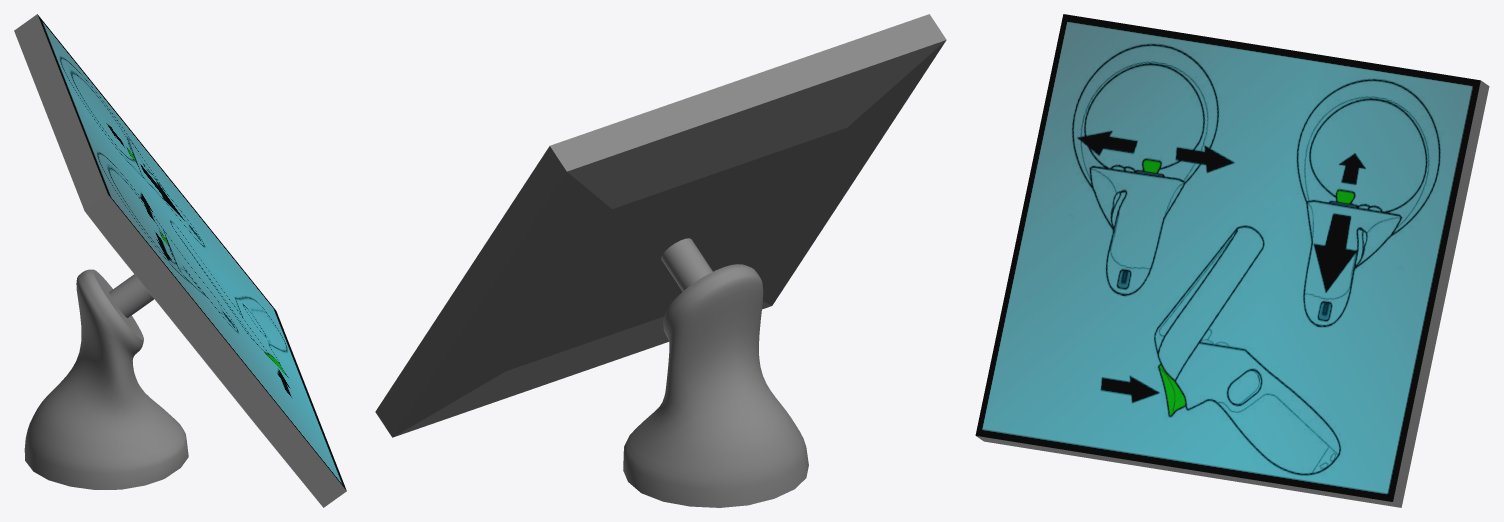
File: Liccon Cabin Icon 003.fbx
3 renders of one model, left to right at view 1: azimuth 30°, elevation 25°; view 2: azimuth 150°, elevation 25°; view 3: azimuth 270°, elevation 25°, orthographic. The views are drawn at different scales.
Visible parts, largest first — view 1: cabin monitor; view 2: cabin monitor; view 3: cabin monitor.
Boxes of the visible parts, <box> form: cabin monitor: <box>14,14,346,507</box>; cabin monitor: <box>375,14,946,507</box>; cabin monitor: <box>975,14,1489,507</box>.
Size of the model in its own units: 26.9 by 33.43 by 26.12.
2 materials, 1 textured.
